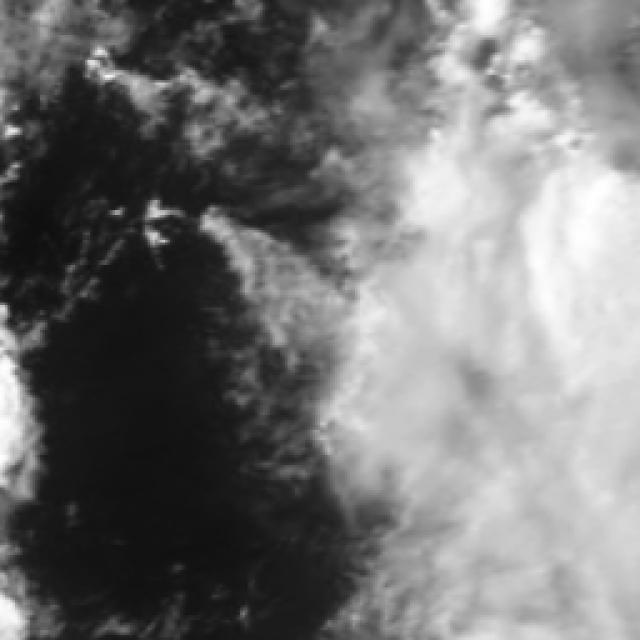CB: (435, 199, 640, 605)
